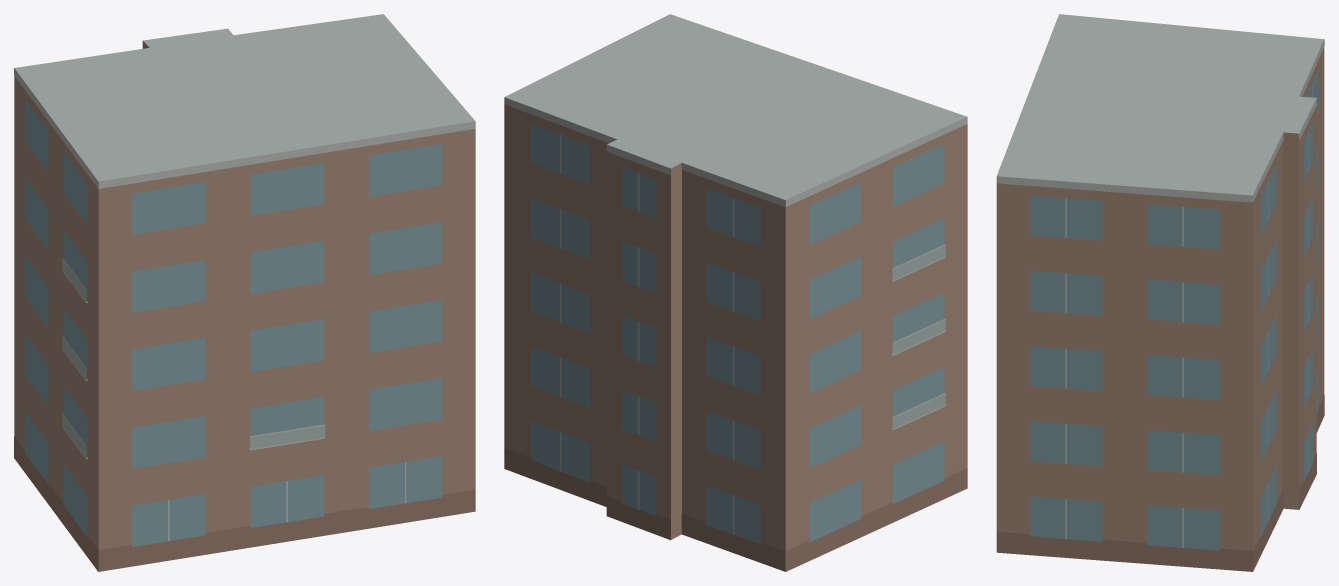
File: survey-upis-32529064.glb
The picture shows the model from 3 angles, left to right: view 1: azimuth 30°, elevation 25°; view 2: azimuth 150°, elevation 25°; view 3: azimuth 270°, elevation 25°; orthographic projection. The views are drawn at different scales.
Parts seen in each view (by area): view 1: survey-upis-32529064.tmp; view 2: survey-upis-32529064.tmp; view 3: survey-upis-32529064.tmp.
Boxes of the visible parts, x1,y1,x2,y2 form: survey-upis-32529064.tmp: (14, 14, 475, 571); survey-upis-32529064.tmp: (504, 14, 967, 571); survey-upis-32529064.tmp: (996, 14, 1324, 571).
Size of the model in its own units: 13.36 by 12.9 by 10.2.
